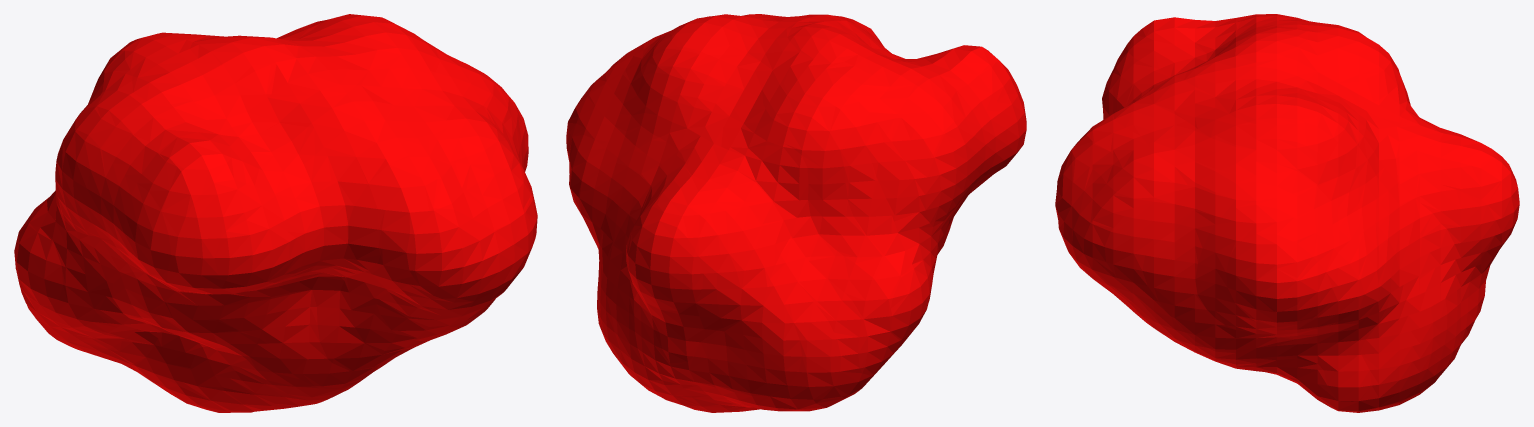
Rendered from gcvH_coarse.dae.
3 views of the same model, side by side, from view 1: azimuth 30°, elevation 25°; view 2: azimuth 150°, elevation 25°; view 3: azimuth 270°, elevation 25° (orthographic). The views are drawn at different scales.
Parts seen in each view (by area): view 1: gcvH; view 2: gcvH; view 3: gcvH.
Boxes of the visible parts, x1,y1,x2,y2 form: gcvH: (14, 14, 537, 412); gcvH: (566, 14, 1026, 412); gcvH: (1055, 14, 1519, 412).
Size of the model in its own units: 40.9 by 34.36 by 43.17.
